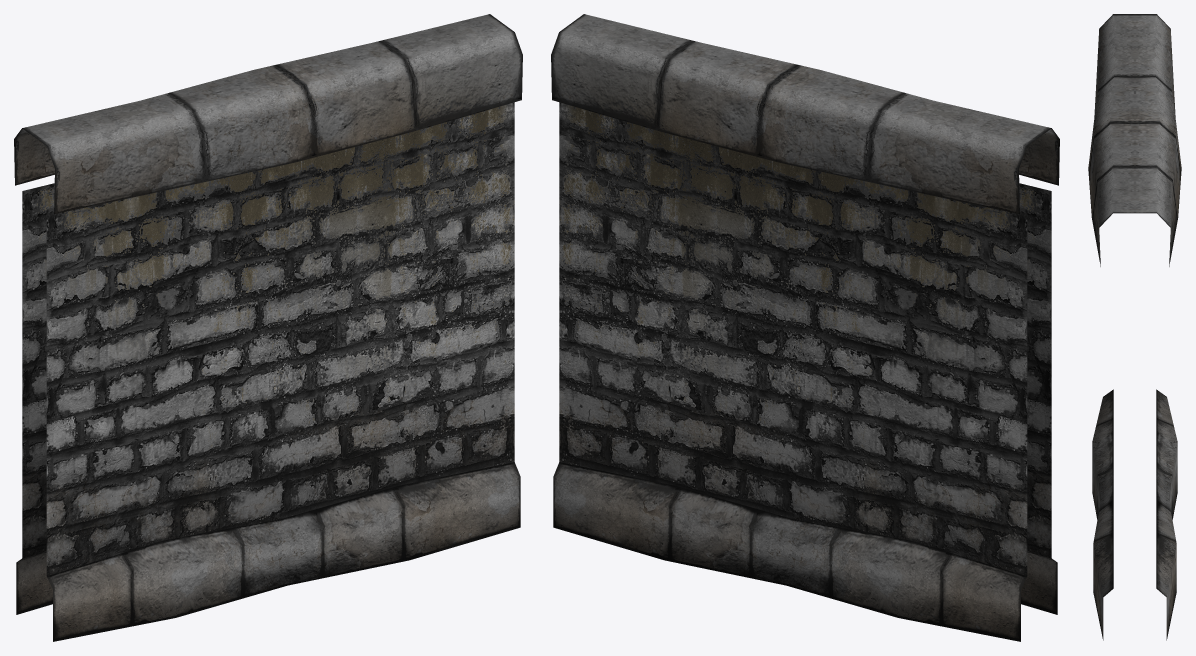
The model's file is wall_2sided.obj.
The picture shows the model from 3 angles, left to right: view 1: azimuth 30°, elevation 25°; view 2: azimuth 150°, elevation 25°; view 3: azimuth 270°, elevation 25°; orthographic projection. The views are drawn at different scales.
Visible parts, largest first — view 1: Grim_Bear_Wall_2sided; view 2: Grim_Bear_Wall_2sided; view 3: Grim_Bear_Wall_2sided.
Boxes of the visible parts, box(x1,y1,x2,y2) form: Grim_Bear_Wall_2sided: box(14, 14, 522, 641); Grim_Bear_Wall_2sided: box(551, 14, 1059, 641); Grim_Bear_Wall_2sided: box(1088, 14, 1181, 640).
Bounding box in the file's own units: 256 × 257 × 50.7.
1 material, 1 textured.
